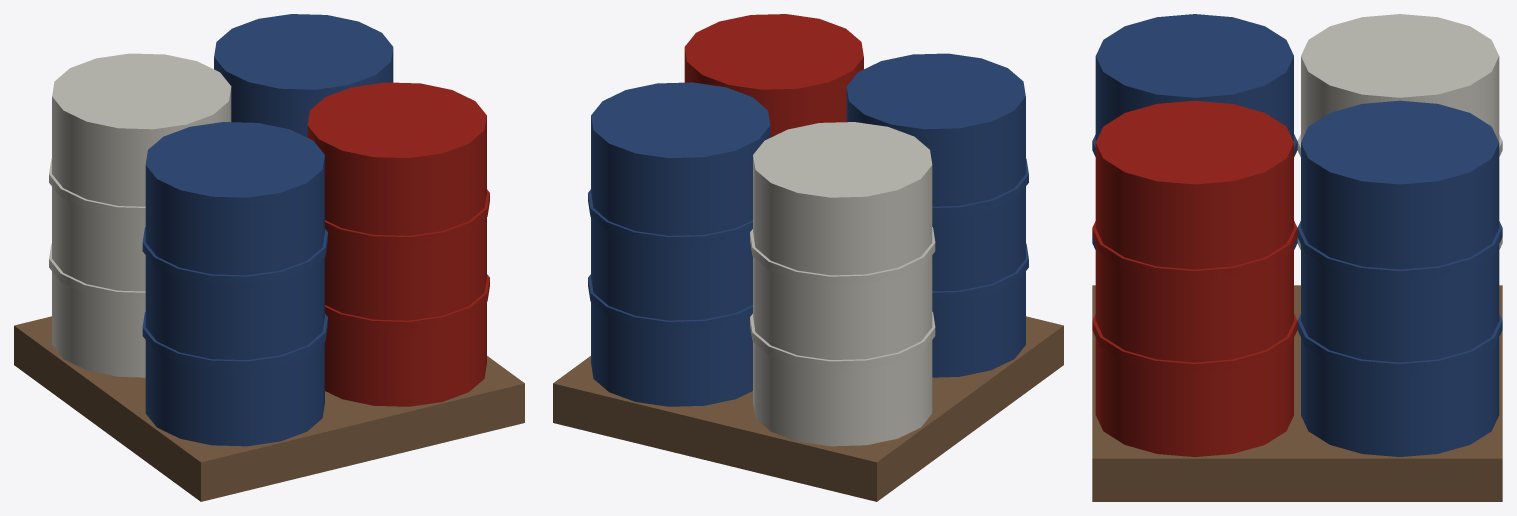
The model's file is drum-stack.glb.
The picture shows the model from 3 angles, left to right: view 1: azimuth 30°, elevation 25°; view 2: azimuth 150°, elevation 25°; view 3: azimuth 270°, elevation 25°; orthographic projection. The views are drawn at different scales.
Visible parts, largest first — view 1: Piece_lod0; view 2: Piece_lod0; view 3: Piece_lod0.
Boxes of the visible parts, x1,y1,x2,y2 form: Piece_lod0: [14, 14, 524, 501]; Piece_lod0: [553, 14, 1063, 501]; Piece_lod0: [1092, 14, 1502, 501].
Size of what is drawn, in the model's own units: 1.2 by 1.02 by 1.2.
